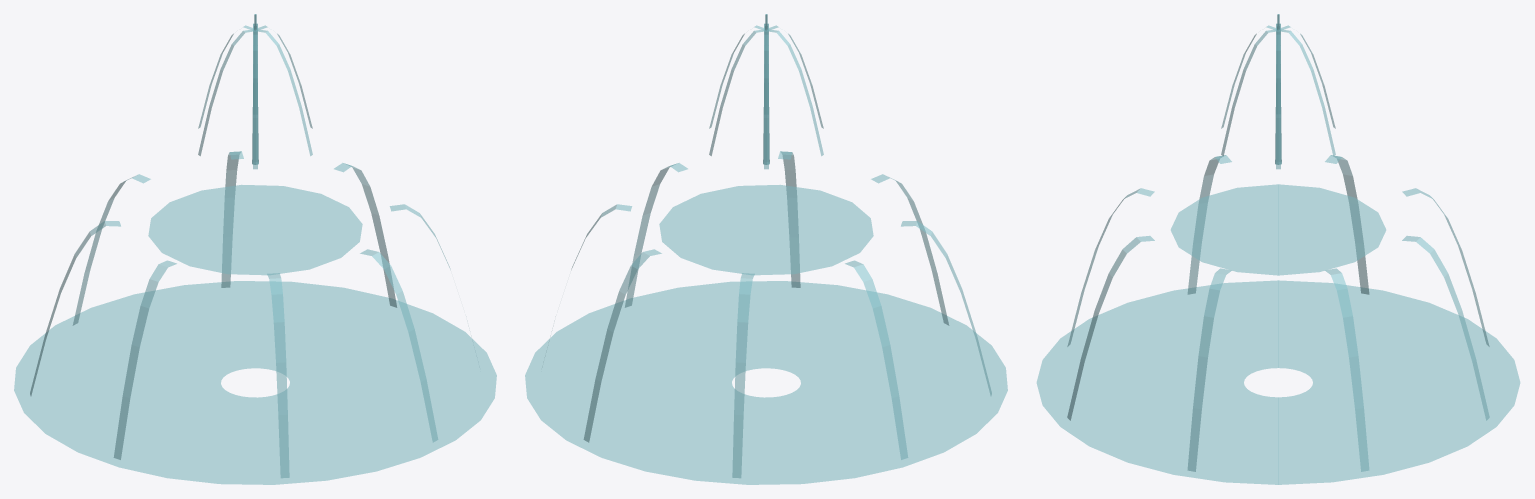
Rendered from fountain-water.glb.
3 views of the same model, side by side, from view 1: azimuth 30°, elevation 25°; view 2: azimuth 150°, elevation 25°; view 3: azimuth 270°, elevation 25° (orthographic).
Parts seen in each view (by area): view 1: fountain-water; view 2: fountain-water; view 3: fountain-water.
Boxes of the visible parts, left/top/right/bottom form: fountain-water: left=14, top=14, right=496, bottom=484; fountain-water: left=525, top=14, right=1007, bottom=484; fountain-water: left=1036, top=14, right=1520, bottom=484.
Bounding box in the file's own units: 2.24 × 1.88 × 2.24.
